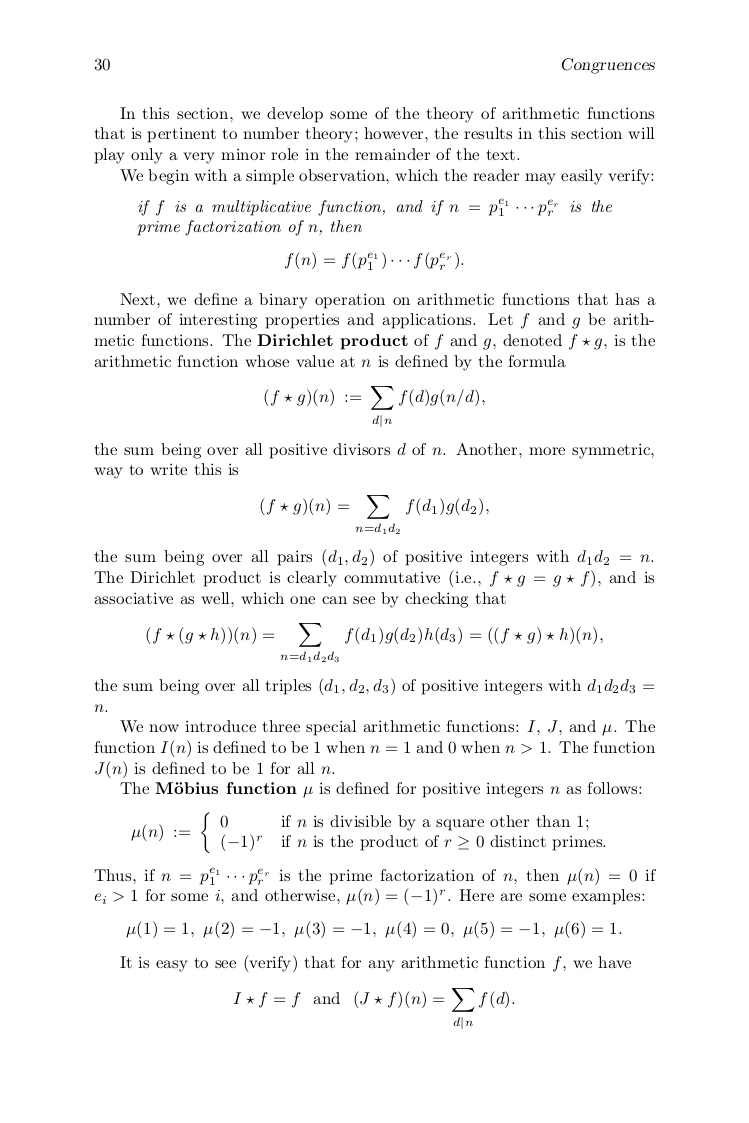formula: (131, 811, 605, 853), (146, 623, 602, 662), (233, 988, 514, 1028), (126, 920, 621, 939), (264, 386, 484, 426), (260, 495, 488, 533), (285, 251, 463, 270)
